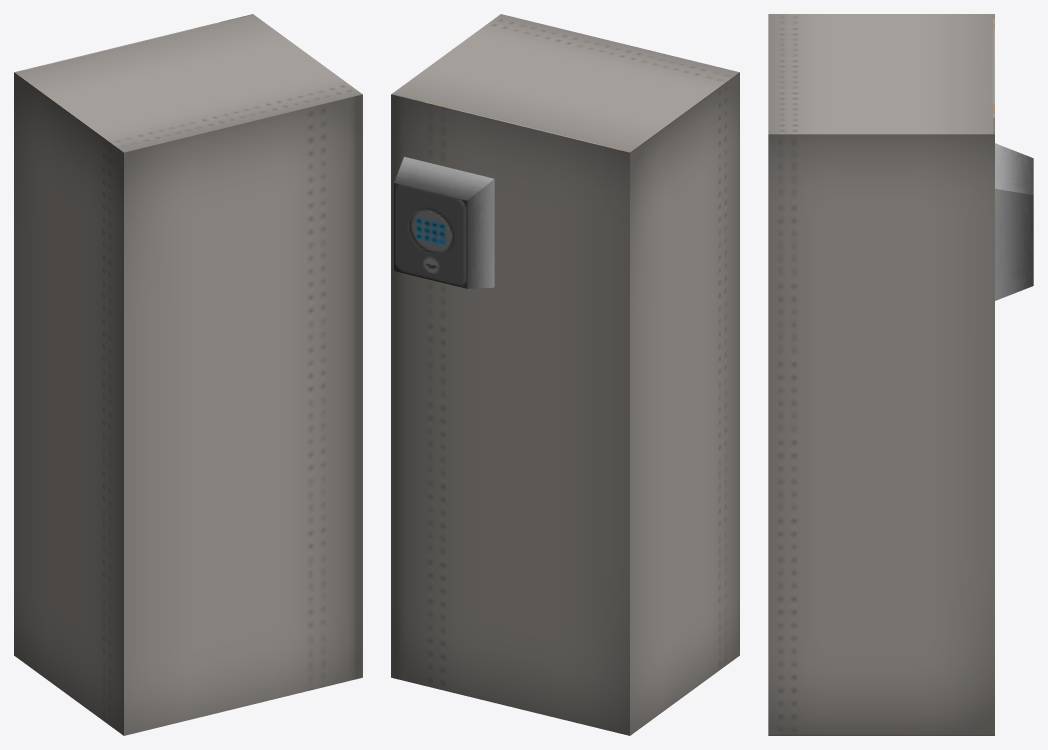
The model's file is File_Cabinet.fbx.
3 views of the same model, side by side, from view 1: azimuth 30°, elevation 25°; view 2: azimuth 150°, elevation 25°; view 3: azimuth 270°, elevation 25° (orthographic). The views are drawn at different scales.
Visible parts, largest first — view 1: File_Cabinet_1; view 2: File_Cabinet_1; view 3: File_Cabinet_1.
Boxes of the visible parts, left/top/right/bottom form: File_Cabinet_1: left=14, top=14, right=362, bottom=735; File_Cabinet_1: left=391, top=14, right=739, bottom=735; File_Cabinet_1: left=768, top=14, right=1033, bottom=735.
Size of the model in its own units: 0.6323 by 1.48 by 0.5893.
